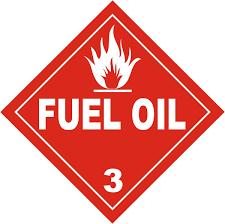flammable: (1, 1, 225, 224)
